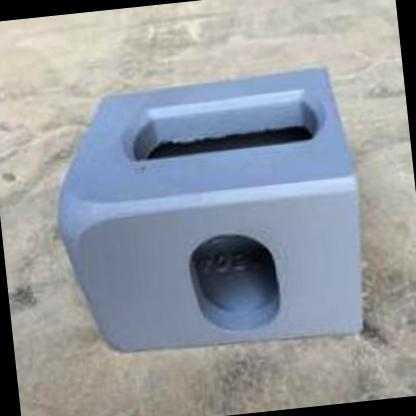CornerCasting: (42, 55, 378, 371)
